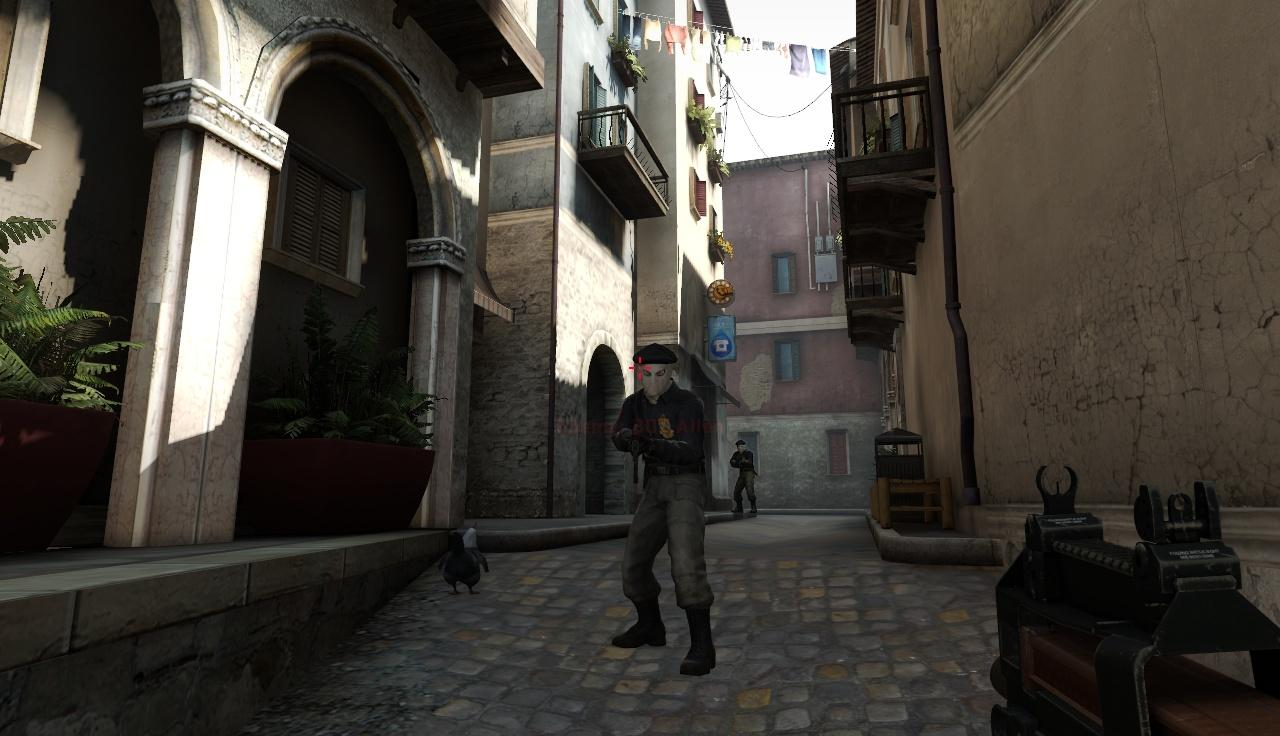rifle: (985, 470, 1280, 736)
tt: (622, 344, 707, 663), (733, 439, 755, 513)
tthead: (640, 345, 674, 398), (736, 440, 746, 452)
